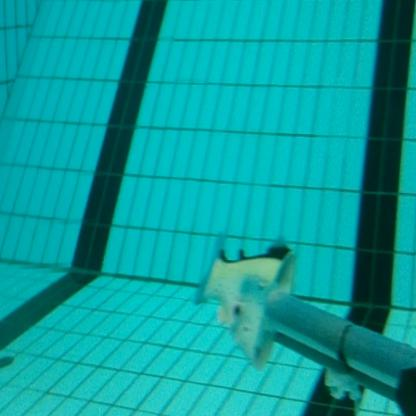tail: (194, 232, 296, 373)
